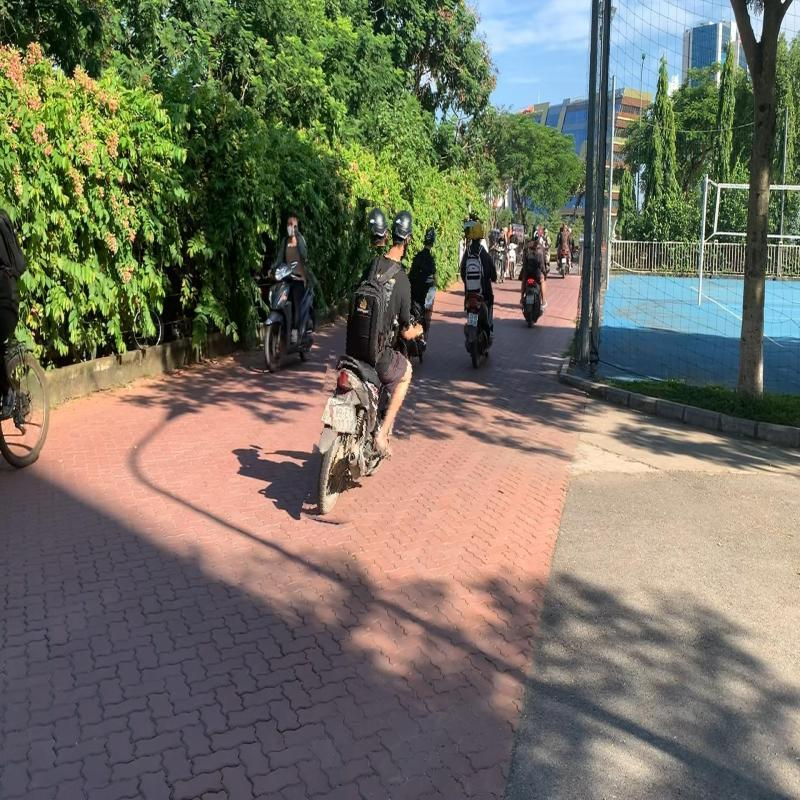helmet: (366, 206, 392, 247), (472, 222, 484, 240)
licenseplate: (330, 403, 358, 436), (467, 312, 478, 327)
motorcyclist: (315, 201, 436, 531), (458, 220, 501, 370)
